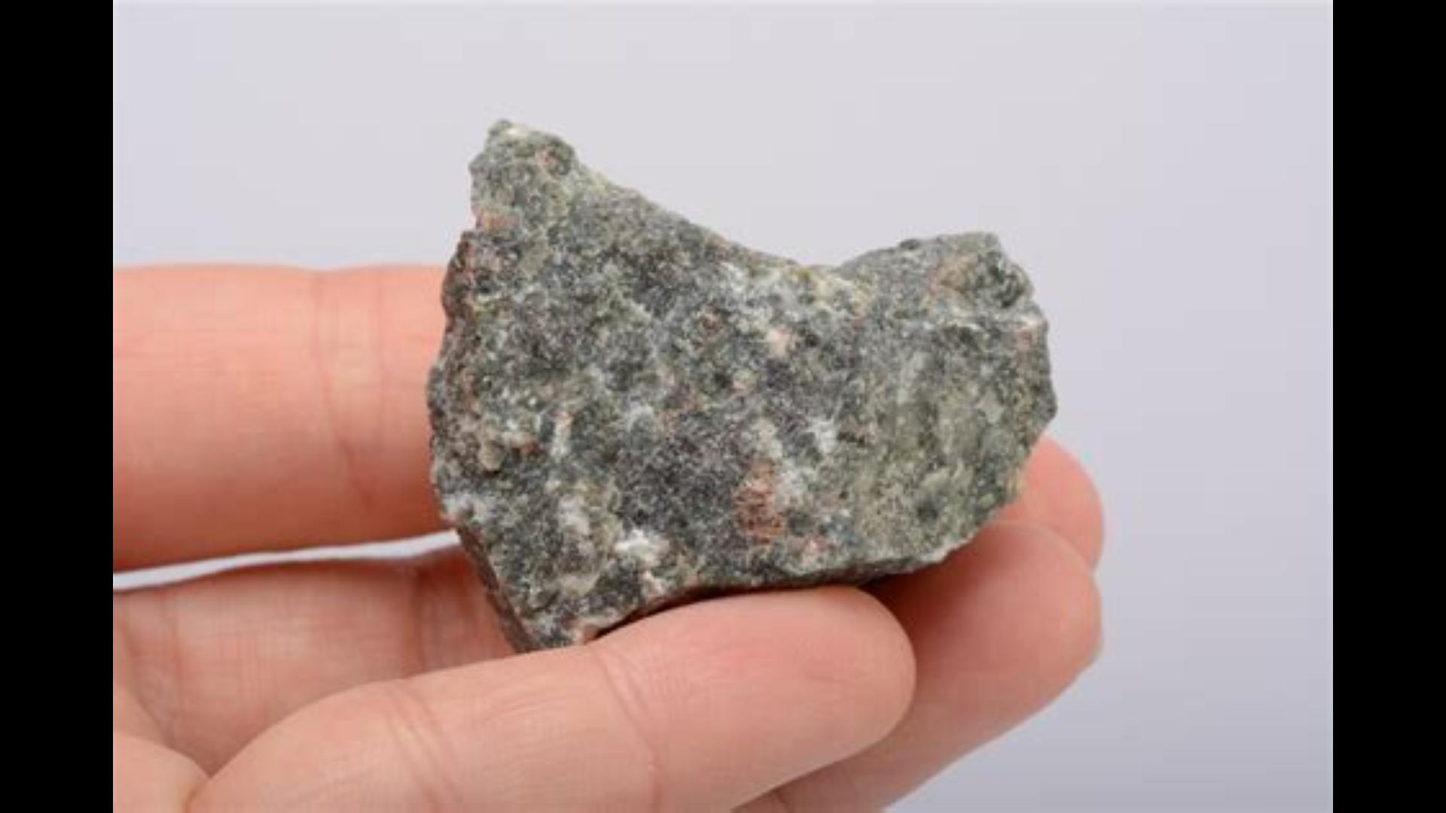rock: (432, 126, 1052, 643)
